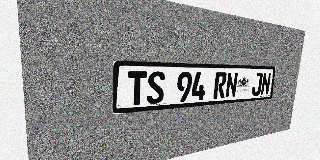4: (191, 72, 207, 101)
9: (176, 72, 193, 102)
J: (251, 73, 263, 96)
N: (225, 72, 238, 98), (260, 73, 271, 95)
R: (213, 72, 227, 99)
S: (147, 71, 165, 104)
T: (127, 71, 147, 106)
